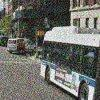buses: (39, 25, 100, 100)
